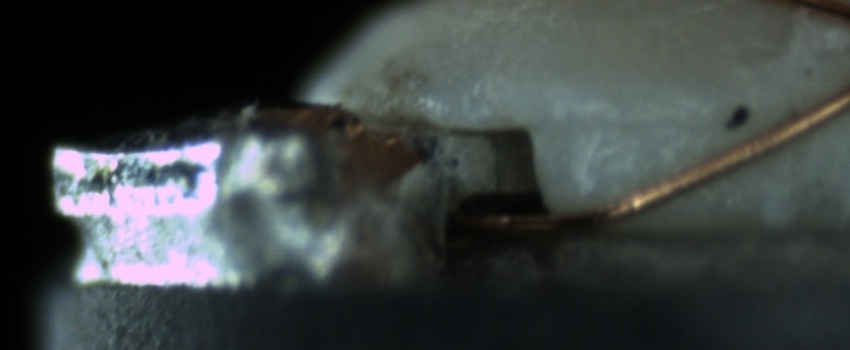DL: (557, 84, 715, 154)
